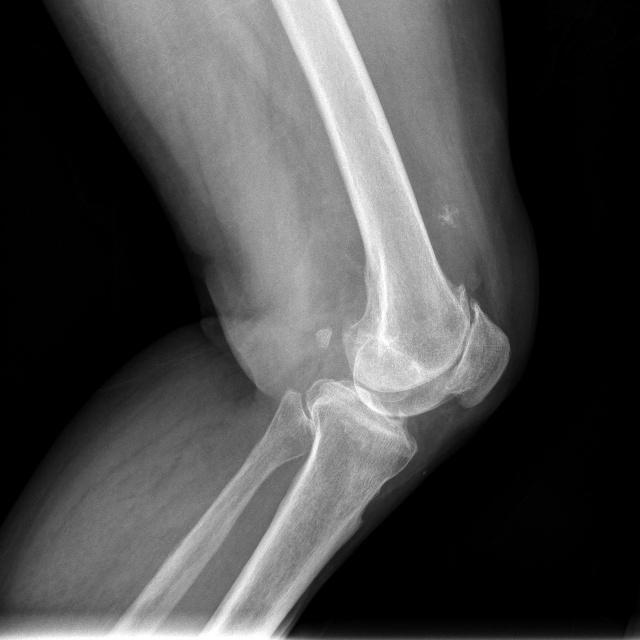Knee: (302, 272, 513, 471)
